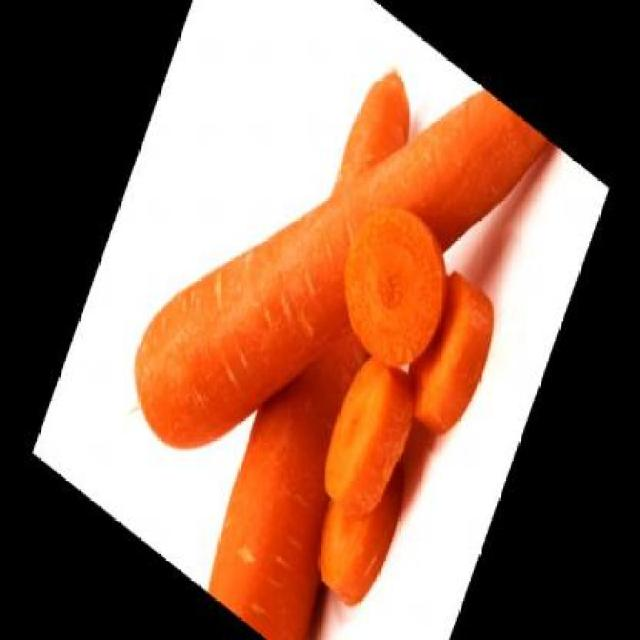carrot: (116, 0, 556, 622), (188, 48, 486, 640)
